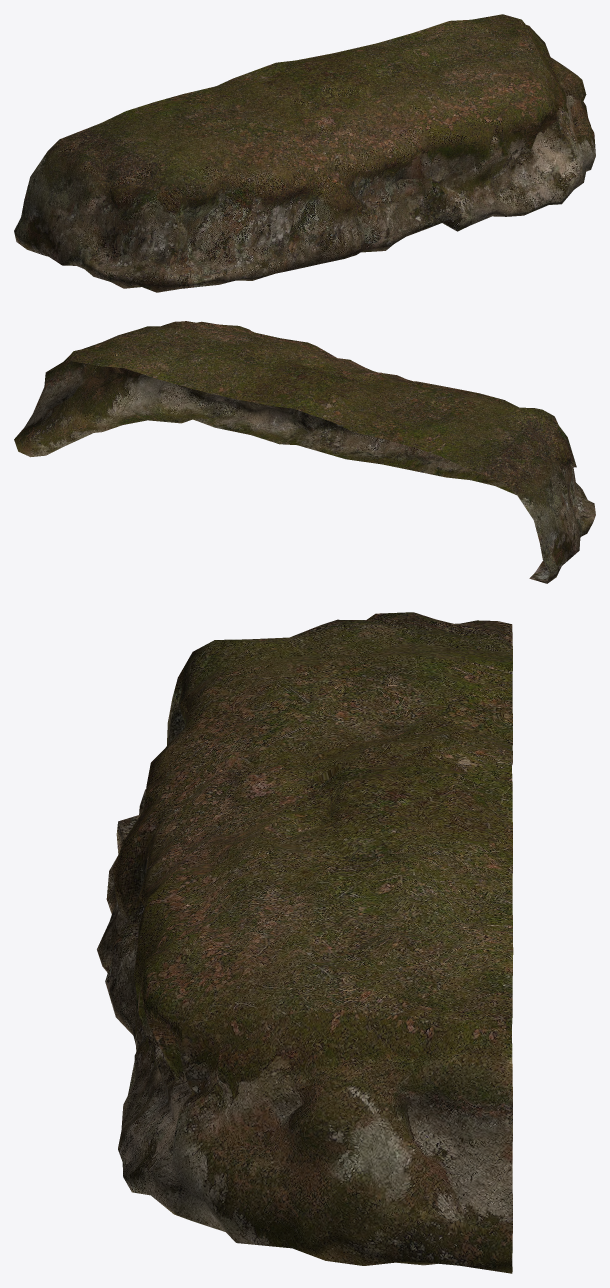
File: ledge_rock.glb
3 views of the same model, one above another, from view 1: azimuth 30°, elevation 25°; view 2: azimuth 150°, elevation 25°; view 3: azimuth 270°, elevation 25° (orthographic). The views are drawn at different scales.
Visible parts, largest first — view 1: ledgeRock_S_Nordic_Forest_Ledge_Rock_Medium_xeumfdu_lod3_Var; view 2: ledgeRock_S_Nordic_Forest_Ledge_Rock_Medium_xeumfdu_lod3_Var; view 3: ledgeRock_S_Nordic_Forest_Ledge_Rock_Medium_xeumfdu_lod3_Var.
Boxes of the visible parts, x1,y1,x2,y2 form: ledgeRock_S_Nordic_Forest_Ledge_Rock_Medium_xeumfdu_lod3_Var: [14, 14, 595, 292]; ledgeRock_S_Nordic_Forest_Ledge_Rock_Medium_xeumfdu_lod3_Var: [14, 321, 595, 583]; ledgeRock_S_Nordic_Forest_Ledge_Rock_Medium_xeumfdu_lod3_Var: [97, 612, 513, 1273].
Size of the model in its own units: 6.18 by 1.38 by 2.08.
Materials: 1 (1 with a texture image).
